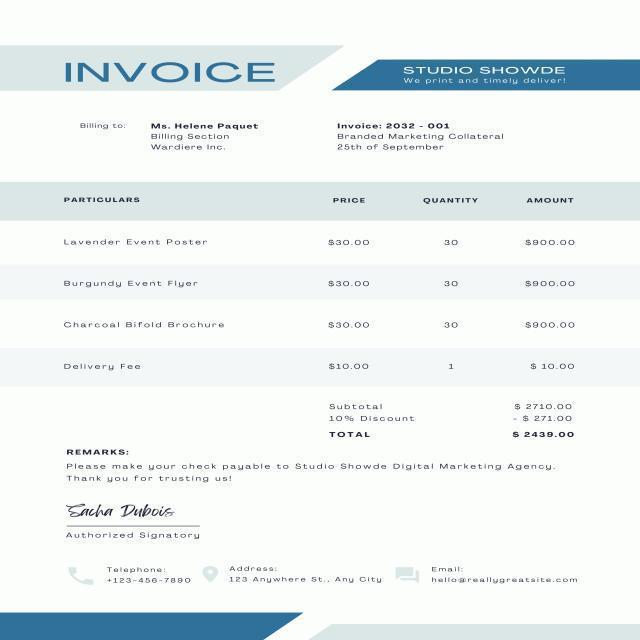ROI: (47, 180, 595, 380), (61, 445, 559, 486), (321, 395, 580, 444), (330, 115, 509, 157), (75, 116, 266, 155), (57, 55, 284, 87), (59, 496, 208, 543), (226, 560, 389, 589), (398, 62, 575, 88), (427, 559, 584, 587), (103, 559, 196, 588)
